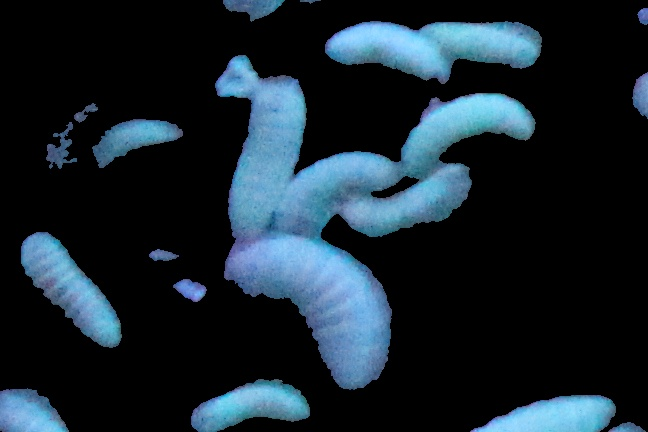larvae: (227, 235, 392, 388), (223, 73, 303, 232), (21, 231, 122, 355), (339, 173, 492, 236), (404, 92, 535, 163), (280, 151, 385, 229), (325, 26, 446, 83), (188, 381, 310, 432), (469, 392, 616, 432), (439, 19, 540, 68), (1, 377, 76, 432)
